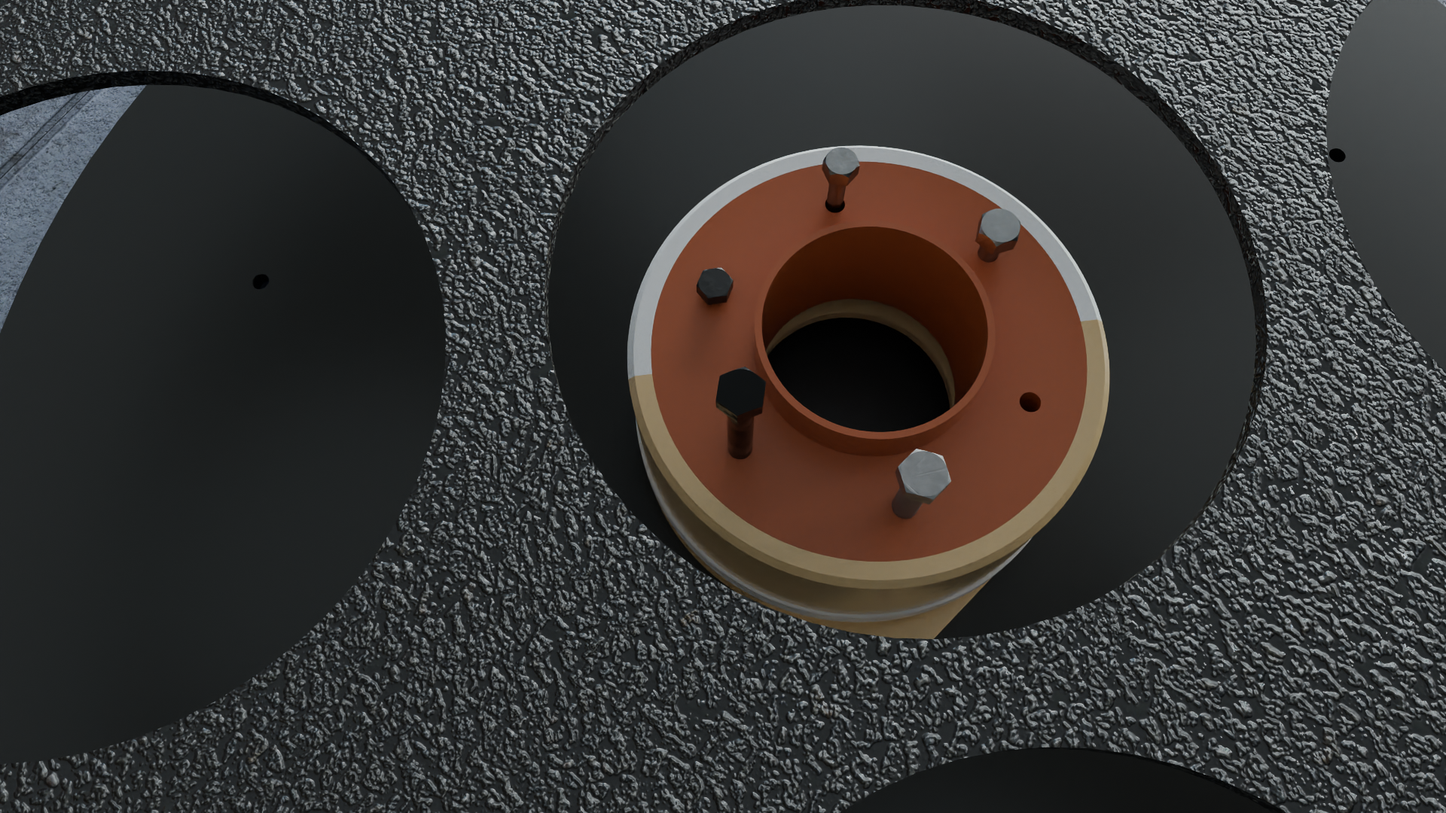bolt: (898, 449, 951, 500), (715, 367, 766, 416), (979, 209, 1020, 247), (697, 268, 734, 299), (823, 148, 860, 178)
